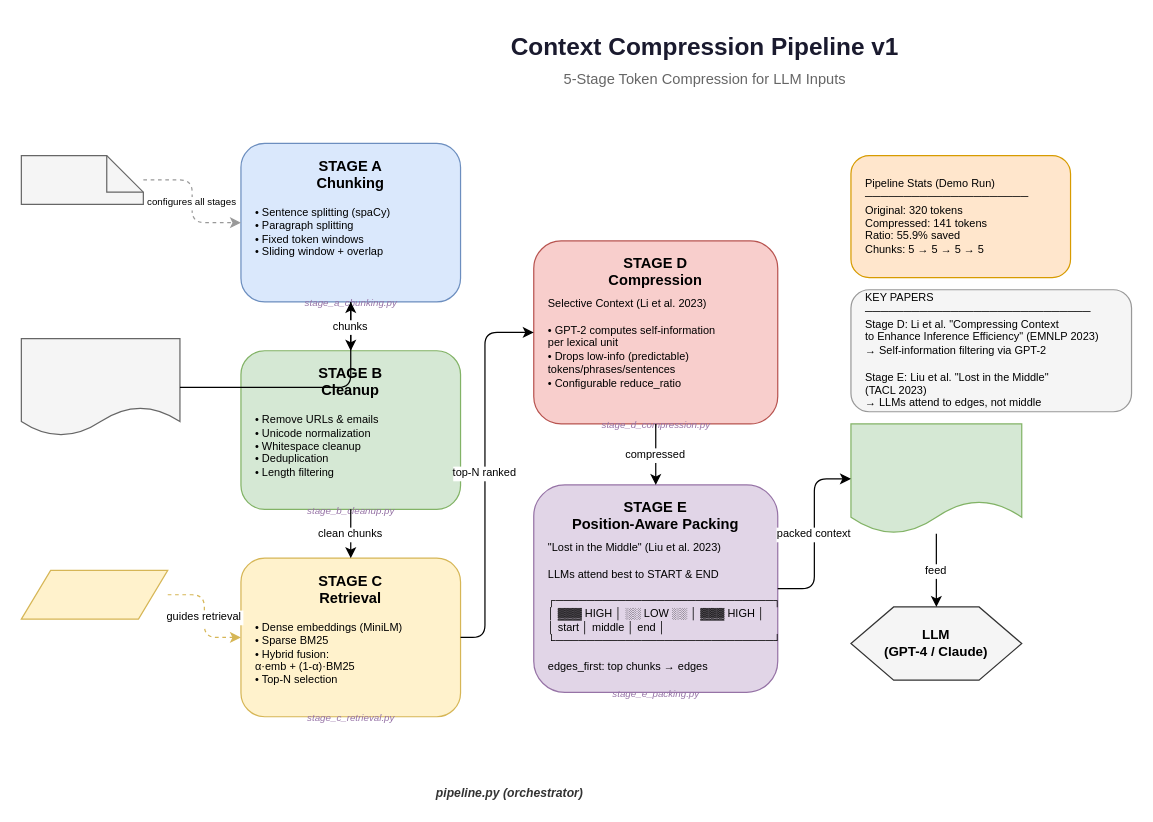
Some shapes in this 1153 by 822 pixel diagram are drawn without their labels. The shapes that lost their labels are listed below. From the top down, each one's centre as x and y in pixels, then its label:
point 81,179: config.yaml
point 100,386: Raw Document (e.g. 5000 tokens)
point 936,478: Compressed Context (e.g. 2000 tokens) 55-60% smaller
point 94,594: User Query
